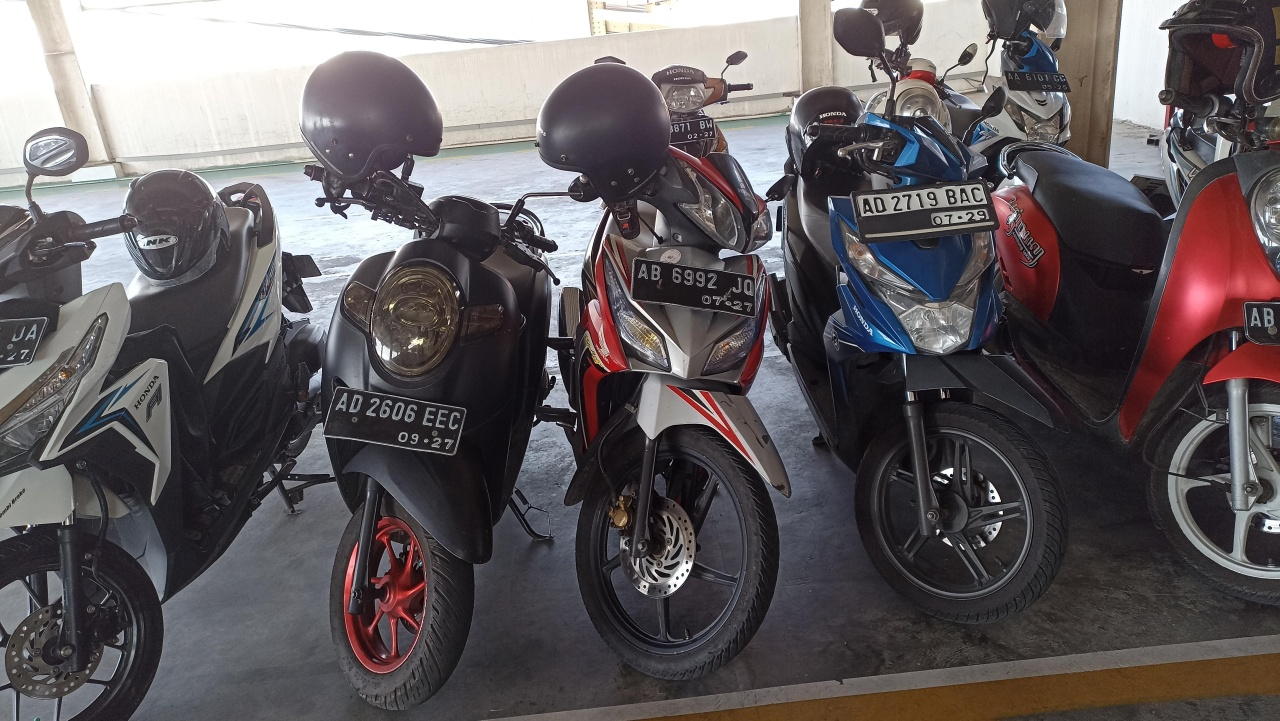plate: (322, 386, 466, 456), (851, 178, 1001, 245), (631, 257, 757, 318), (1004, 70, 1071, 92)
